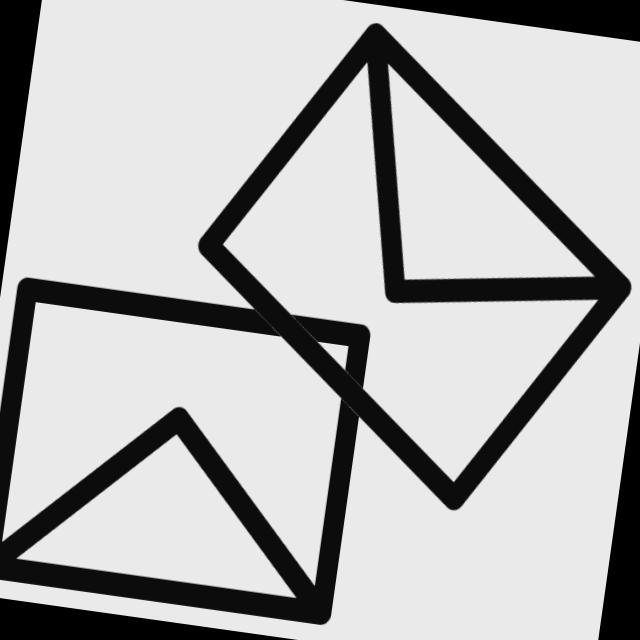letter: (153, 1, 640, 544), (1, 271, 379, 635)
